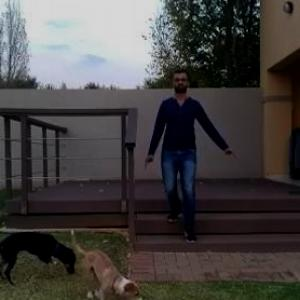land: (140, 74, 224, 232)
